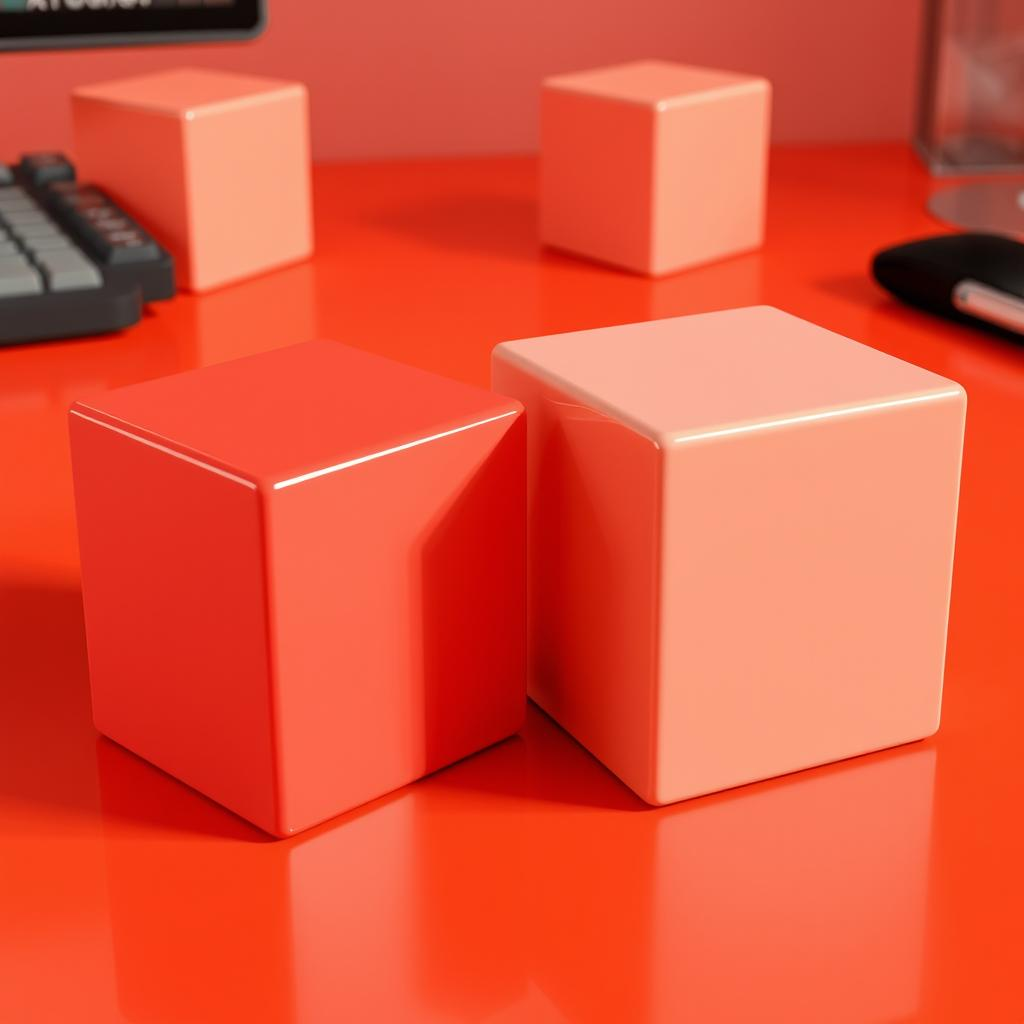cube: (490, 302, 967, 807), (66, 335, 528, 839), (69, 65, 314, 294), (537, 56, 772, 277)
